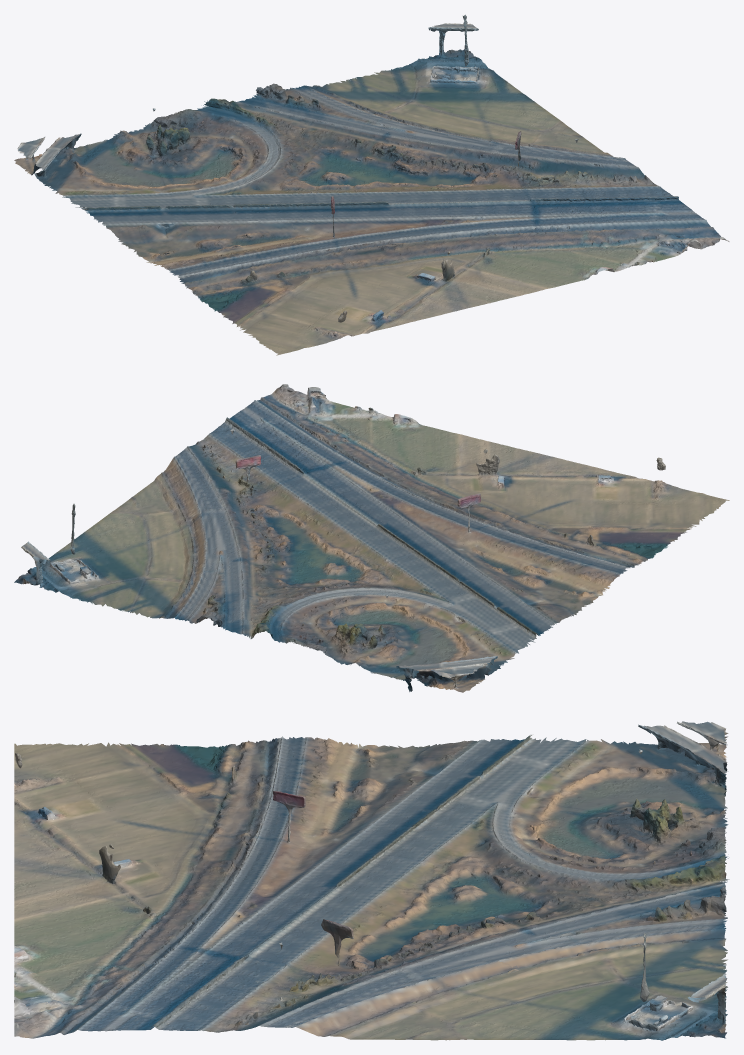
The model's file is EnvAsset_009_Tile_21.obj.
The picture shows the model from 3 angles, top to bottom: view 1: azimuth 30°, elevation 25°; view 2: azimuth 150°, elevation 25°; view 3: azimuth 270°, elevation 25°; orthographic projection. The views are drawn at different scales.
Bounding box in the file's own units: 347 × 56.59 × 351.
1 material, 1 textured.
